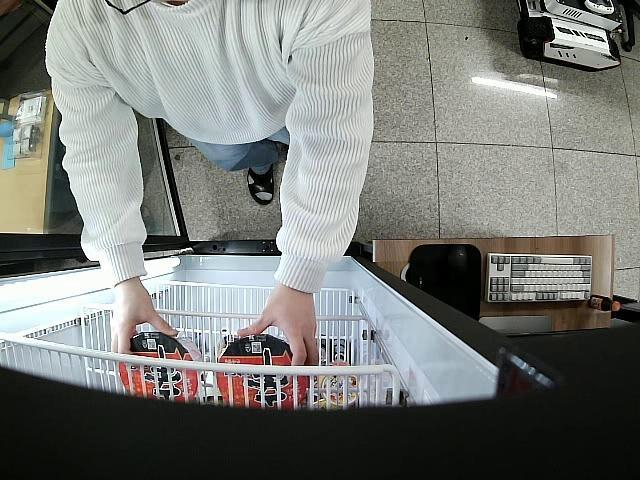01_ShinRamen_L: (215, 335, 309, 409), (120, 330, 206, 406)
